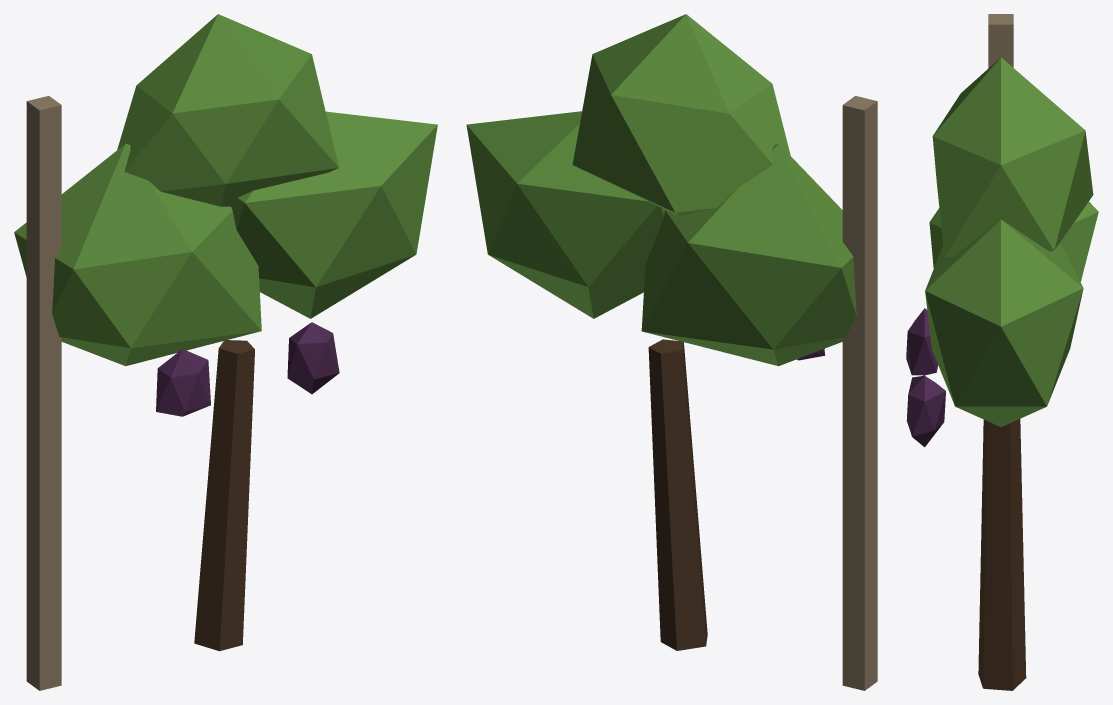
The model's file is vigne.glb.
3 views of the same model, side by side, from view 1: azimuth 30°, elevation 25°; view 2: azimuth 150°, elevation 25°; view 3: azimuth 270°, elevation 25° (orthographic).
Parts seen in each view (by area): view 1: vigne; view 2: vigne; view 3: vigne.
Part boxes in pixels (x1,y1,x2,y2): vigne: (14,14,437,690); vigne: (466,14,877,690); vigne: (906,14,1098,690).
Bounding box in the file's own units: 1.09 × 1.62 × 0.4544.
1 material, 1 textured.
